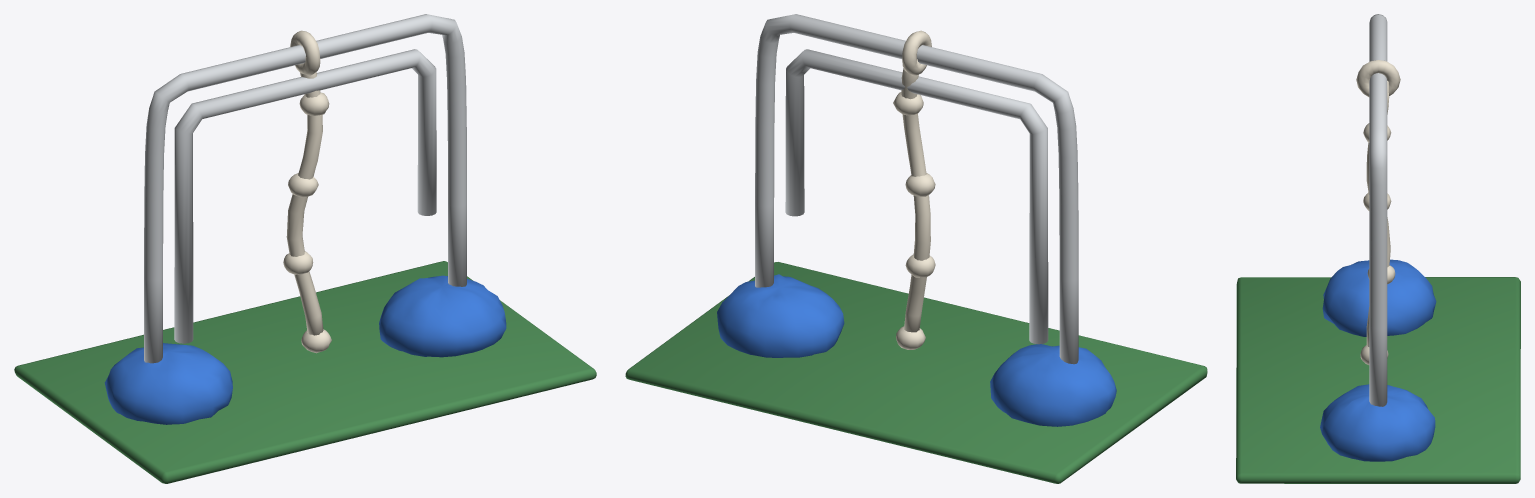
The model's file is training-endurancestation.glb.
The picture shows the model from 3 angles, left to right: view 1: azimuth 30°, elevation 25°; view 2: azimuth 150°, elevation 25°; view 3: azimuth 270°, elevation 25°; orthographic projection. The views are drawn at different scales.
Visible parts, largest first — view 1: EnduranceStation__FeltMat, EnduranceStation__Paperclip, EnduranceStation__Plasticine, EnduranceStation__Rope; view 2: EnduranceStation__FeltMat, EnduranceStation__Paperclip, EnduranceStation__Plasticine, EnduranceStation__Rope; view 3: EnduranceStation__FeltMat, EnduranceStation__Plasticine, EnduranceStation__Paperclip, EnduranceStation__Rope.
Part boxes in pixels (<box>): EnduranceStation__FeltMat: <box>14,261,596,483</box>; EnduranceStation__Paperclip: <box>144,14,466,363</box>; EnduranceStation__Plasticine: <box>104,275,506,424</box>; EnduranceStation__Rope: <box>283,30,331,353</box>; EnduranceStation__FeltMat: <box>625,262,1207,483</box>; EnduranceStation__Paperclip: <box>755,14,1078,364</box>; EnduranceStation__Plasticine: <box>717,274,1116,426</box>; EnduranceStation__Rope: <box>893,30,935,349</box>; EnduranceStation__FeltMat: <box>1236,277,1520,483</box>; EnduranceStation__Plasticine: <box>1320,259,1436,461</box>; EnduranceStation__Paperclip: <box>1369,14,1387,406</box>; EnduranceStation__Rope: <box>1356,60,1400,364</box>.
Size of the model in its own units: 20 by 15.89 by 12.05.
